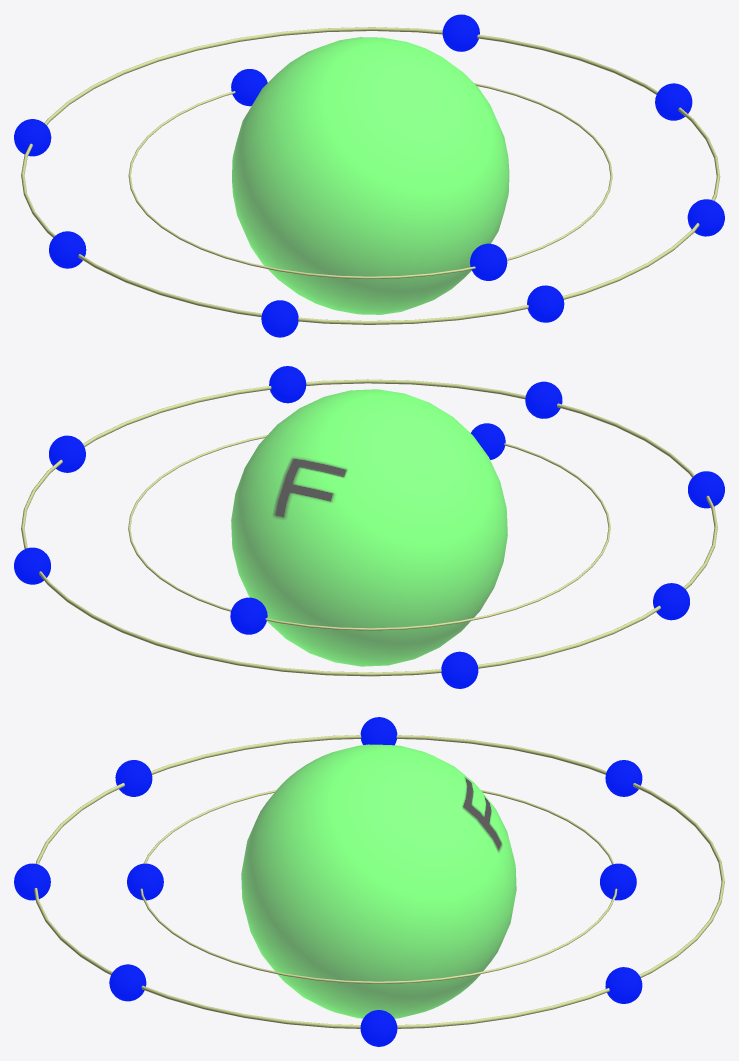
3 views of the same model, one above another, from view 1: azimuth 30°, elevation 25°; view 2: azimuth 150°, elevation 25°; view 3: azimuth 270°, elevation 25° (orthographic).
Visible parts, largest first — view 1: 球体, 贝塞尔圆环.001, 贝塞尔圆环, 球体.008, 球体.002, 球体.009, 球体.004, 球体.006, 球体.011, 球体.010, 球体.005, 球体.001; view 2: 球体, 贝塞尔圆环.001, 贝塞尔圆环, 球体.001, 球体.005, 球体.010, 球体.009, 球体.006, 球体.002, 球体.011, 球体.008, 球体.004; view 3: 球体, 贝塞尔圆环.001, 贝塞尔圆环, 球体.011, 球体.010, 球体.002, 球体.001, 球体.004, 球体.008, 球体.005, 球体.009, 球体.006.
Boxes of the visible parts, x1,y1,x2,y2 form: 球体: (232,37,509,314); 贝塞尔圆环.001: (21,27,720,324); 贝塞尔圆环: (128,83,612,278); 球体.008: (261,300,298,337); 球体.002: (442,14,479,51); 球体.009: (527,285,564,322); 球体.004: (470,243,507,280); 球体.006: (49,231,86,268); 球体.011: (655,83,692,120); 球体.010: (687,199,724,236); 球体.005: (14,119,51,156); 球体.001: (231,69,267,106); 球体: (231,389,507,666); 贝塞尔圆环.001: (21,379,717,676); 贝塞尔圆环: (128,435,610,630); 球体.001: (230,597,267,634); 球体.005: (441,651,478,688); 球体.010: (269,366,306,403); 球体.009: (525,381,562,418); 球体.006: (653,583,689,620); 球体.002: (14,547,50,584); 球体.011: (49,435,85,472); 球体.008: (688,471,724,508); 球体.004: (471,423,505,459); 球体: (241,744,516,1018); 贝塞尔圆环.001: (34,735,724,1028); 贝塞尔圆环: (140,790,617,983); 球体.011: (360,1010,397,1046); 球体.010: (109,964,146,1001); 球体.002: (605,967,642,1003); 球体.001: (600,863,636,900); 球体.004: (127,863,163,900); 球体.008: (115,760,152,796); 球体.005: (605,760,642,796); 球体.009: (14,863,50,900); 球体.006: (360,717,397,745).
Bounding box in the file's own units: 1.85 × 0.6996 × 1.81.
Materials: 3 (1 with a texture image).
